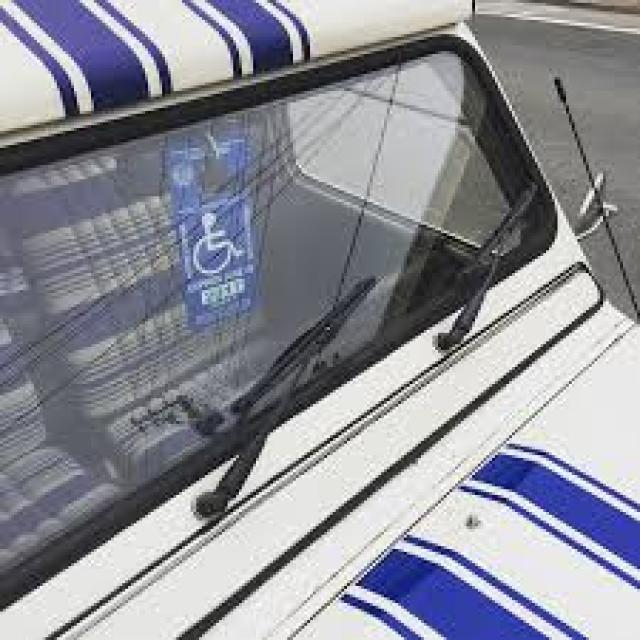symbol_of_access: (196, 213, 242, 272)
